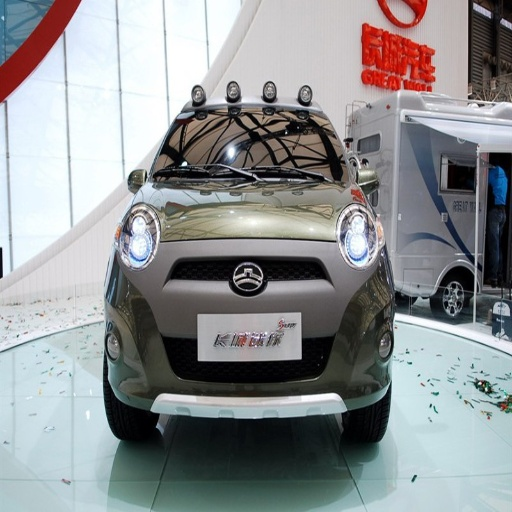front_bumper: (110, 241, 391, 415)
front_right_light: (117, 208, 155, 264)
hood: (141, 177, 362, 241)
